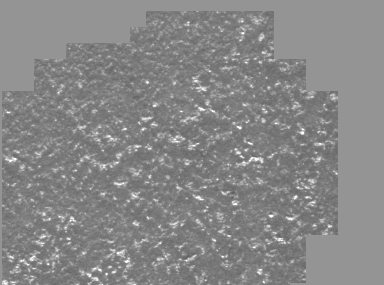oxl: (35, 10, 349, 275)
